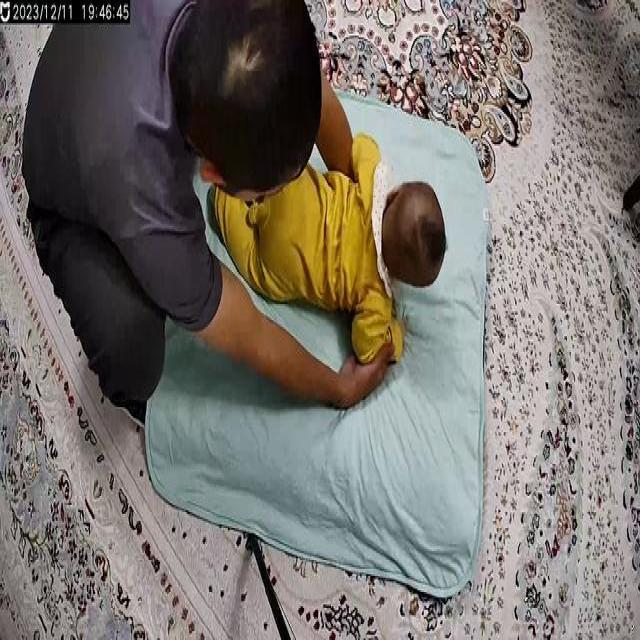baby: (204, 126, 449, 376)
